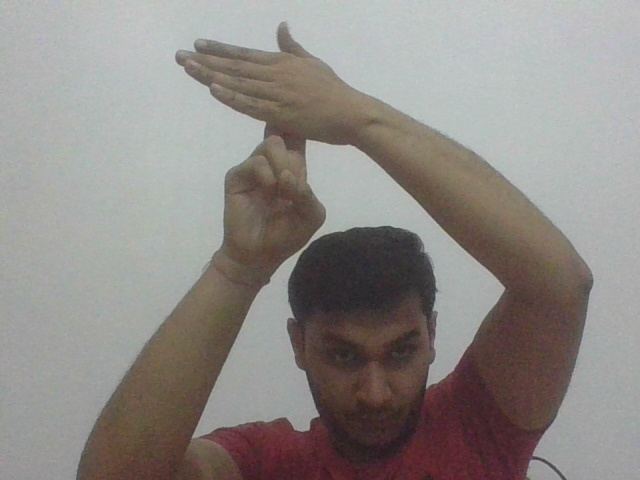N: (175, 18, 352, 162)
